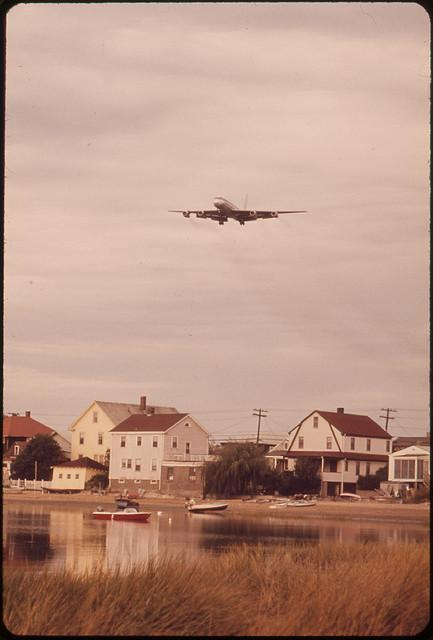airplane: (167, 191, 311, 227)
